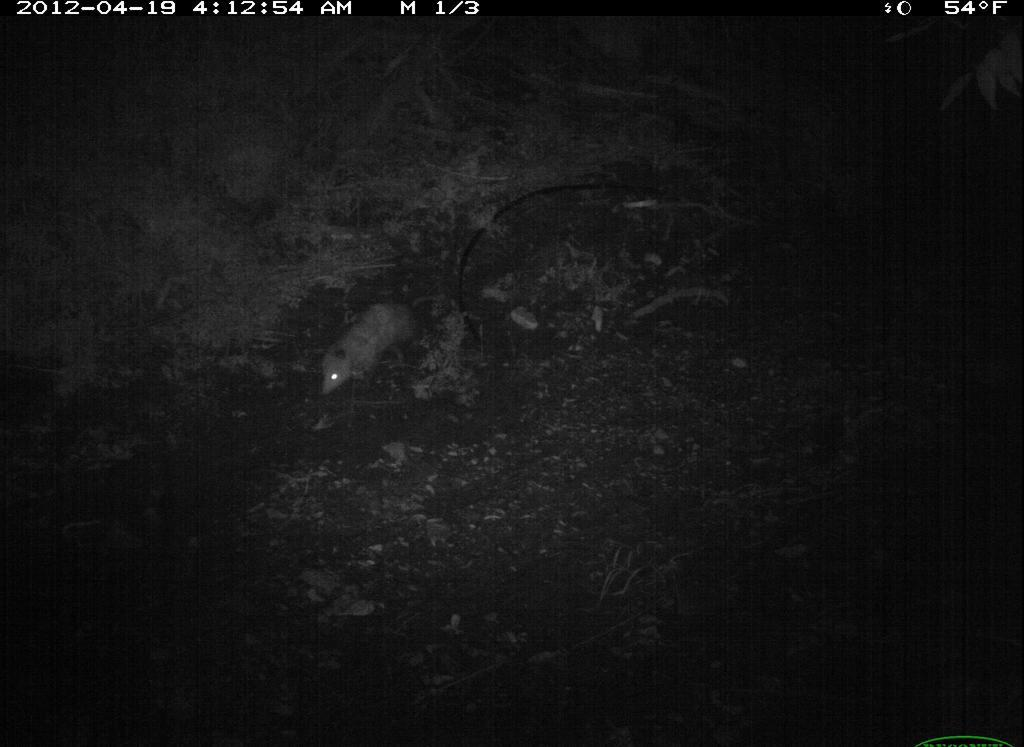opossum: (317, 291, 451, 408)
